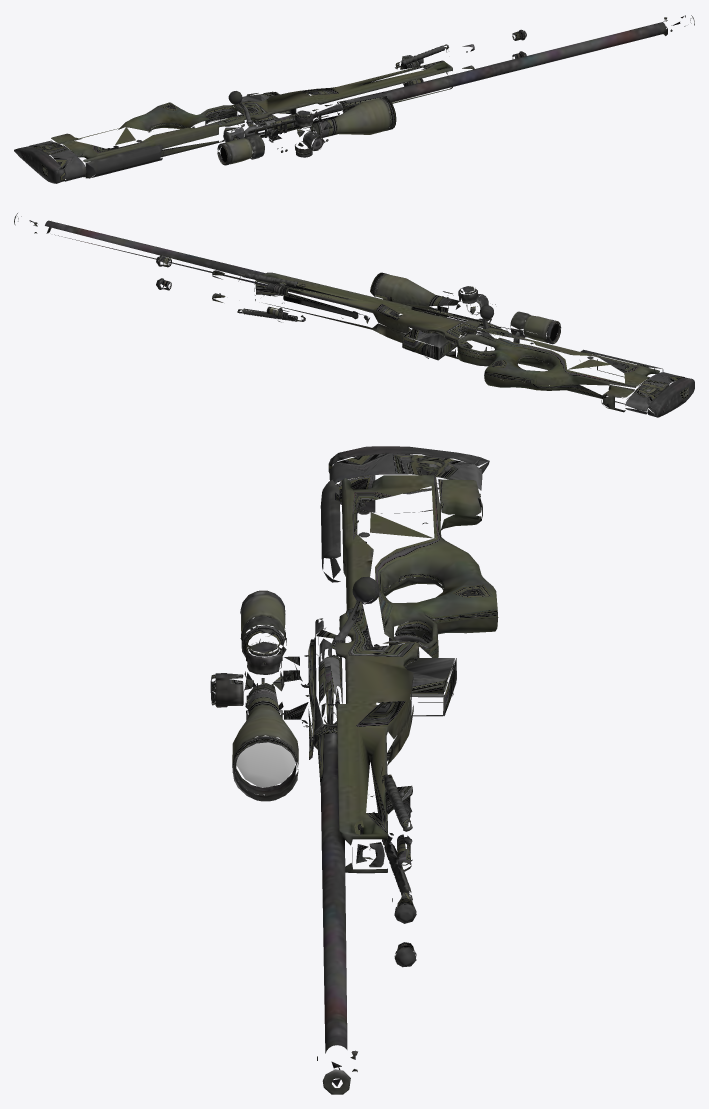
The model's file is w_awp.glb.
3 renders of one model, top to bottom at view 1: azimuth 30°, elevation 25°; view 2: azimuth 150°, elevation 25°; view 3: azimuth 270°, elevation 25°, orthographic. The views are drawn at different scales.
Visible parts, largest first — view 1: w_awp; view 2: w_awp; view 3: w_awp.
Part boxes in pixels (x1,y1,x2,y2): w_awp: (14,15,694,183); w_awp: (14,213,694,417); w_awp: (210,446,498,1094).
Size of the model in its own units: 1.84 by 0.1525 by 0.3569.
Materials: 2 (2 with a texture image).
